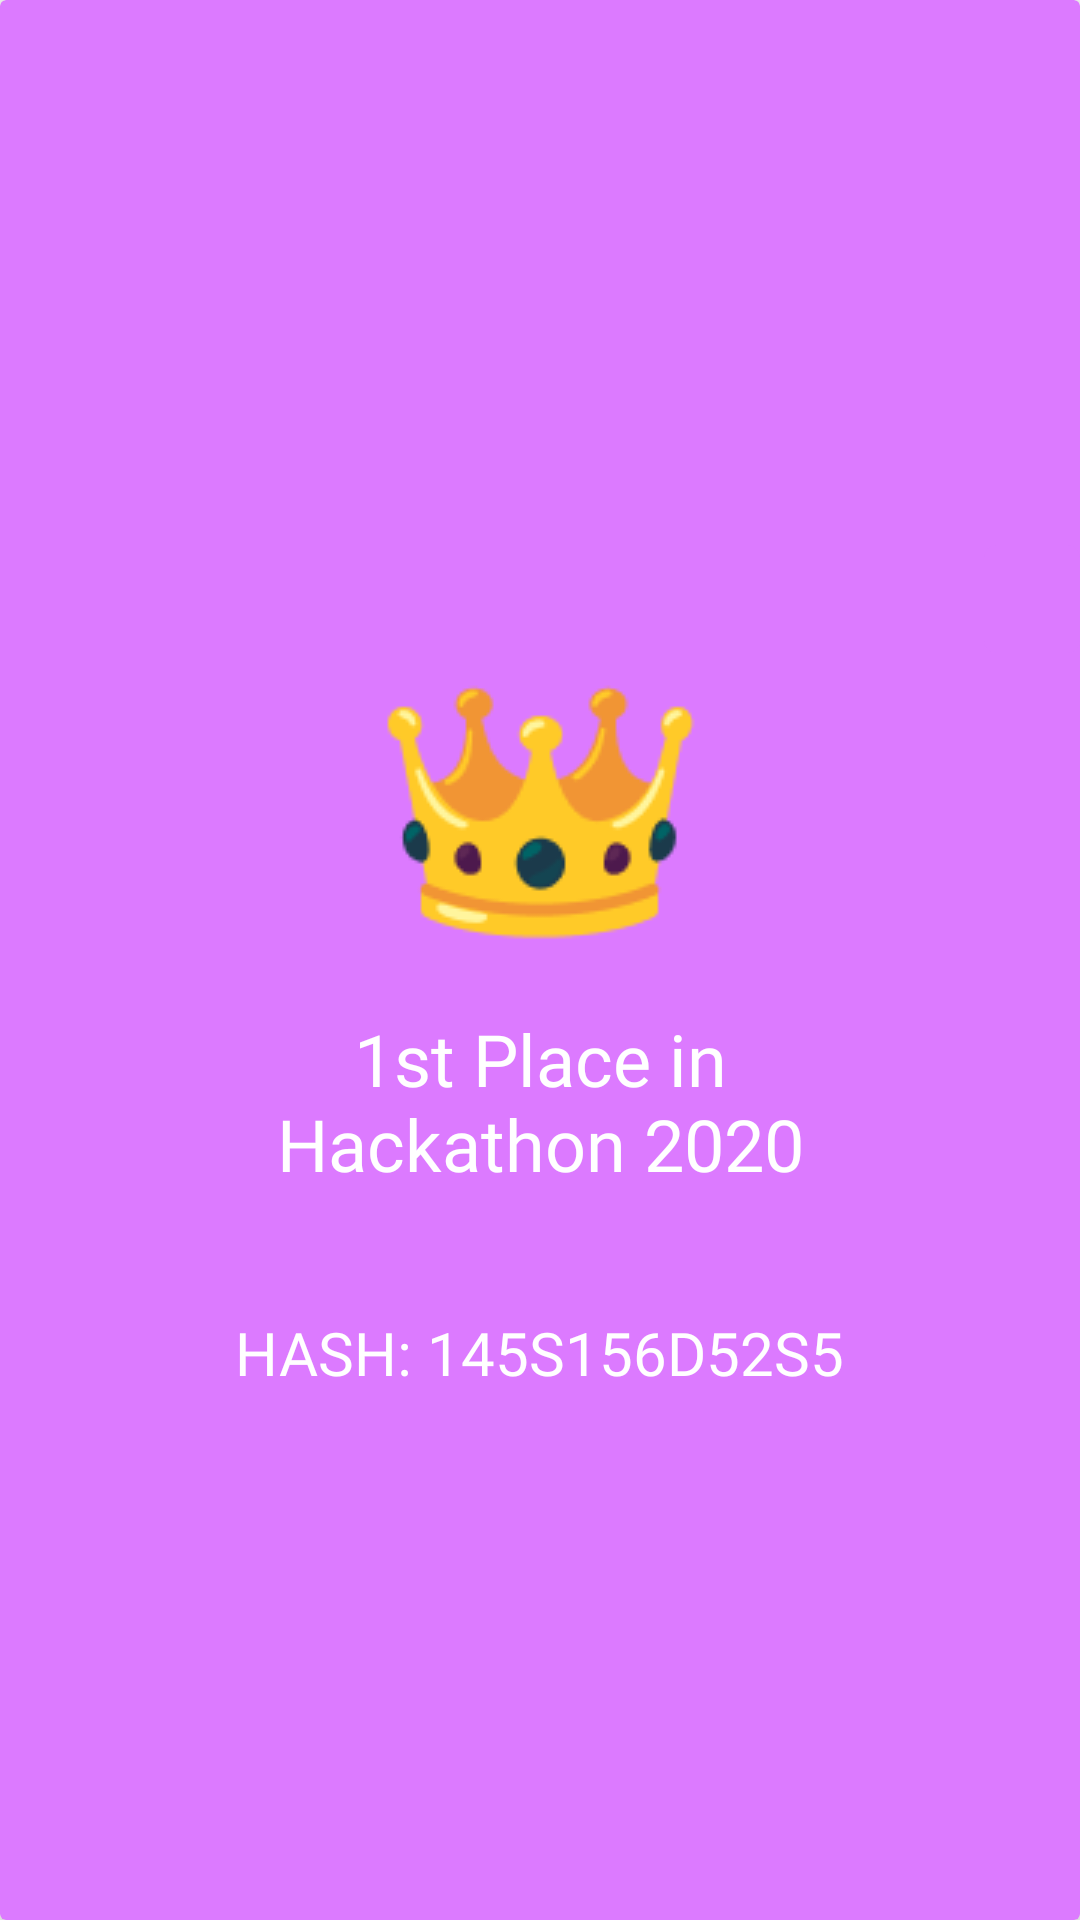

Icon click points for this 1080px×1920px phone screenshot, format (x,y):
crown: (540,812)
